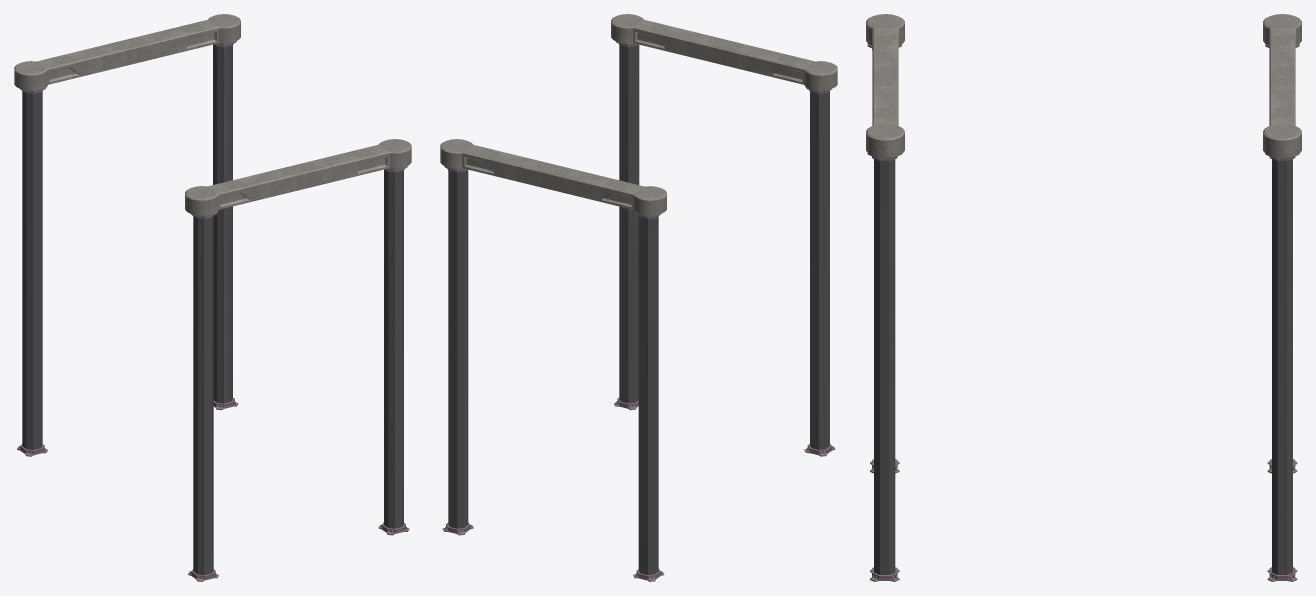
File: support_beams.fbx
3 renders of one model, left to right at view 1: azimuth 30°, elevation 25°; view 2: azimuth 150°, elevation 25°; view 3: azimuth 270°, elevation 25°, orthographic. The views are drawn at different scales.
Parts seen in each view (by area): view 1: support_pylon_1, support_pylon_3, support_pylon_2, support_pylon, support_beam__1_, support_beam; view 2: support_pylon, support_pylon_1, support_pylon_3, support_pylon_2, support_beam, support_beam__1_; view 3: support_pylon_2, support_pylon, support_beam, support_beam__1_.
Boxes of the visible parts, box(x1,y1,x2,y2) form: support_pylon_1: box(22, 91, 42, 449); support_pylon_3: box(193, 216, 213, 575); support_pylon_2: box(384, 168, 403, 528); support_pylon: box(213, 43, 232, 403); support_beam__1_: box(185, 139, 411, 215); support_beam: box(14, 14, 240, 90); support_pylon: box(448, 168, 468, 528); support_pylon_1: box(638, 216, 658, 575); support_pylon_3: box(810, 91, 829, 449); support_pylon_2: box(619, 45, 639, 403); support_beam: box(440, 139, 666, 215); support_beam__1_: box(611, 14, 837, 90); support_pylon_2: box(874, 159, 895, 574); support_pylon: box(1272, 159, 1292, 574); support_beam: box(1263, 14, 1301, 157); support_beam__1_: box(866, 14, 904, 157).
Bounding box in the file's own units: 8651 × 14219 × 12610.
